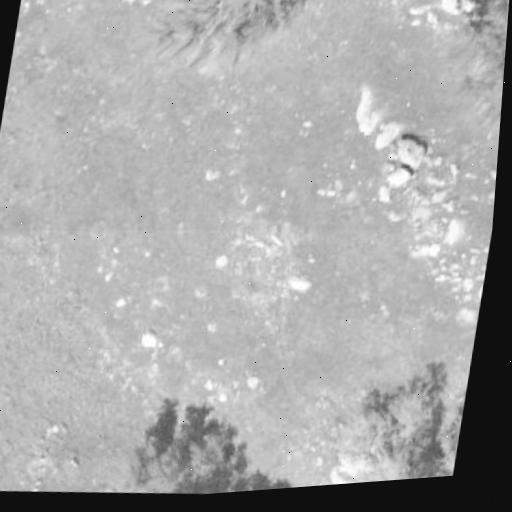tree-top: (314, 343, 472, 486), (130, 0, 333, 98), (97, 418, 222, 502), (440, 0, 511, 137)
